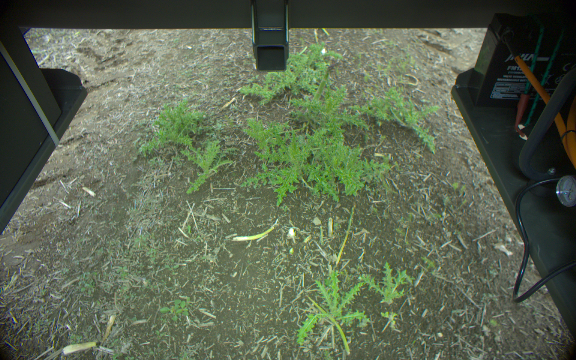aspa: (309, 58, 336, 113)
